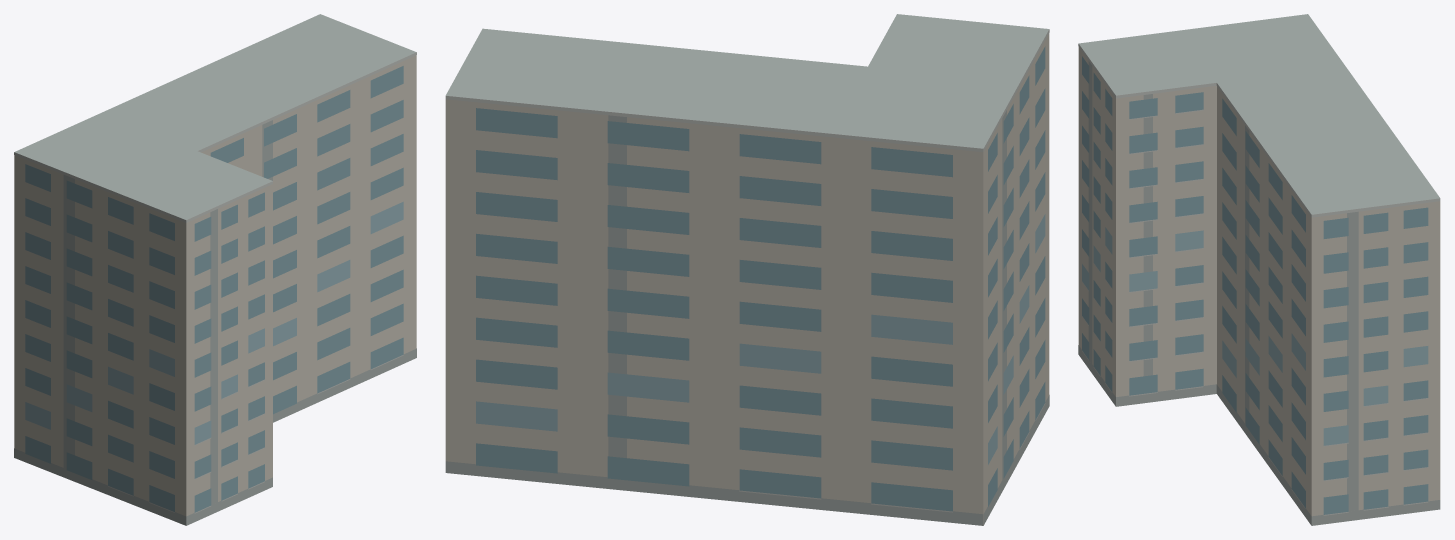
The model's file is residential-7f3e4667-db3b-40f3-83b5-0b41b234959d.glb.
The picture shows the model from 3 angles, left to right: view 1: azimuth 30°, elevation 25°; view 2: azimuth 150°, elevation 25°; view 3: azimuth 270°, elevation 25°; orthographic projection. The views are drawn at different scales.
Parts seen in each view (by area): view 1: residential-7f3e4667-db3b-40f3-83b5-0b41b234959d.tmp; view 2: residential-7f3e4667-db3b-40f3-83b5-0b41b234959d.tmp; view 3: residential-7f3e4667-db3b-40f3-83b5-0b41b234959d.tmp.
Boxes of the visible parts, bbox=[...] form: residential-7f3e4667-db3b-40f3-83b5-0b41b234959d.tmp: bbox=[14, 14, 416, 525]; residential-7f3e4667-db3b-40f3-83b5-0b41b234959d.tmp: bbox=[445, 14, 1049, 525]; residential-7f3e4667-db3b-40f3-83b5-0b41b234959d.tmp: bbox=[1078, 14, 1440, 525].
Bounding box in the file's own units: 35.99 × 26 × 27.42.
